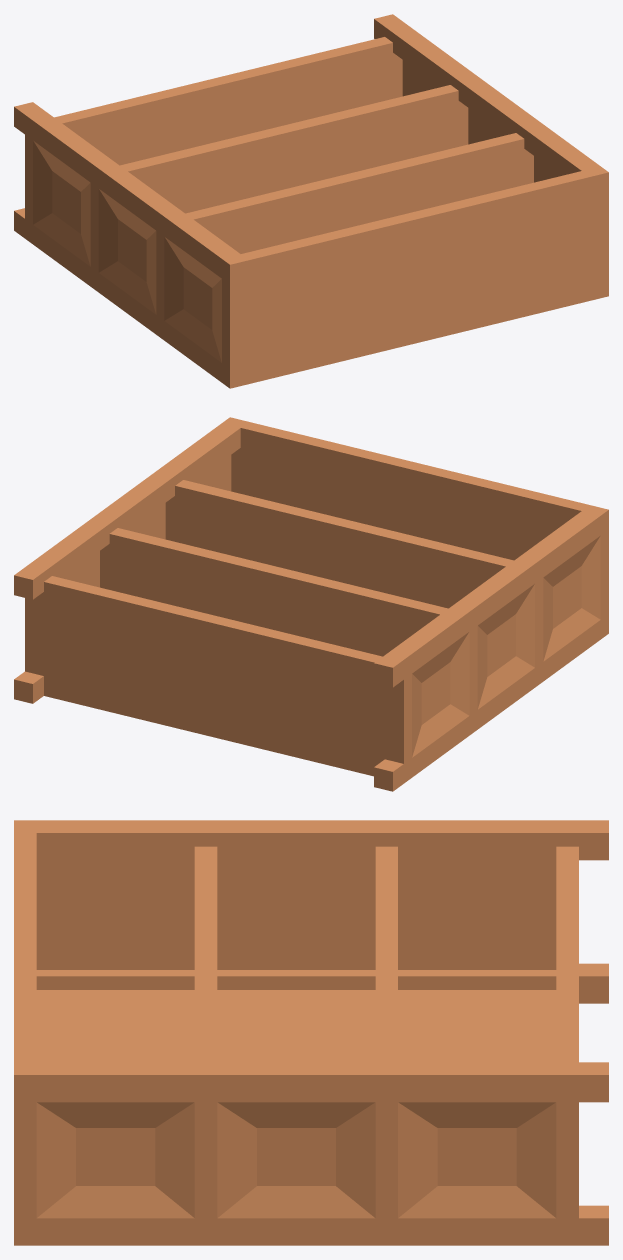
File: pantry_visual.obj
The picture shows the model from 3 angles, top to bottom: view 1: azimuth 30°, elevation 25°; view 2: azimuth 150°, elevation 25°; view 3: azimuth 270°, elevation 25°; orthographic projection. The views are drawn at different scales.
Parts seen in each view (by area): view 1: bookcaseClosedWide.001_ID5.013; view 2: bookcaseClosedWide.001_ID5.013; view 3: bookcaseClosedWide.001_ID5.013.
Boxes of the visible parts, <box> form: bookcaseClosedWide.001_ID5.013: <box>14,14,608,388</box>; bookcaseClosedWide.001_ID5.013: <box>14,417,608,791</box>; bookcaseClosedWide.001_ID5.013: <box>14,820,608,1245</box>.
Bounding box in the file's own units: 2.13 × 0.6642 × 2.1.
